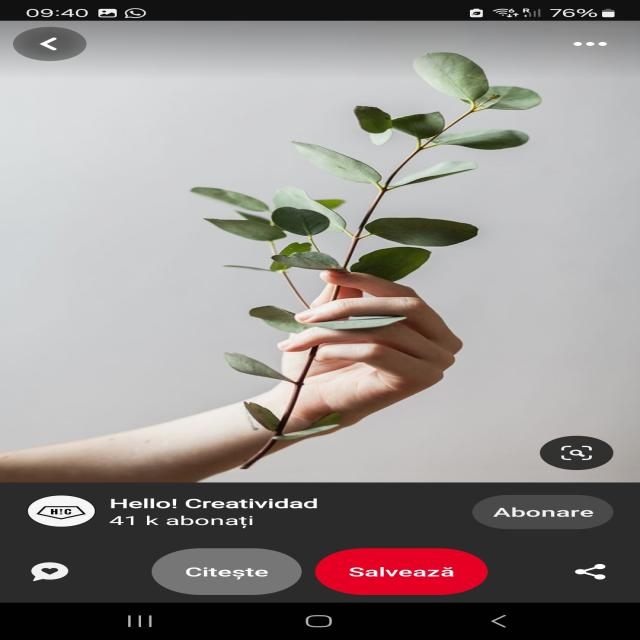hands: (186, 252, 482, 467)
